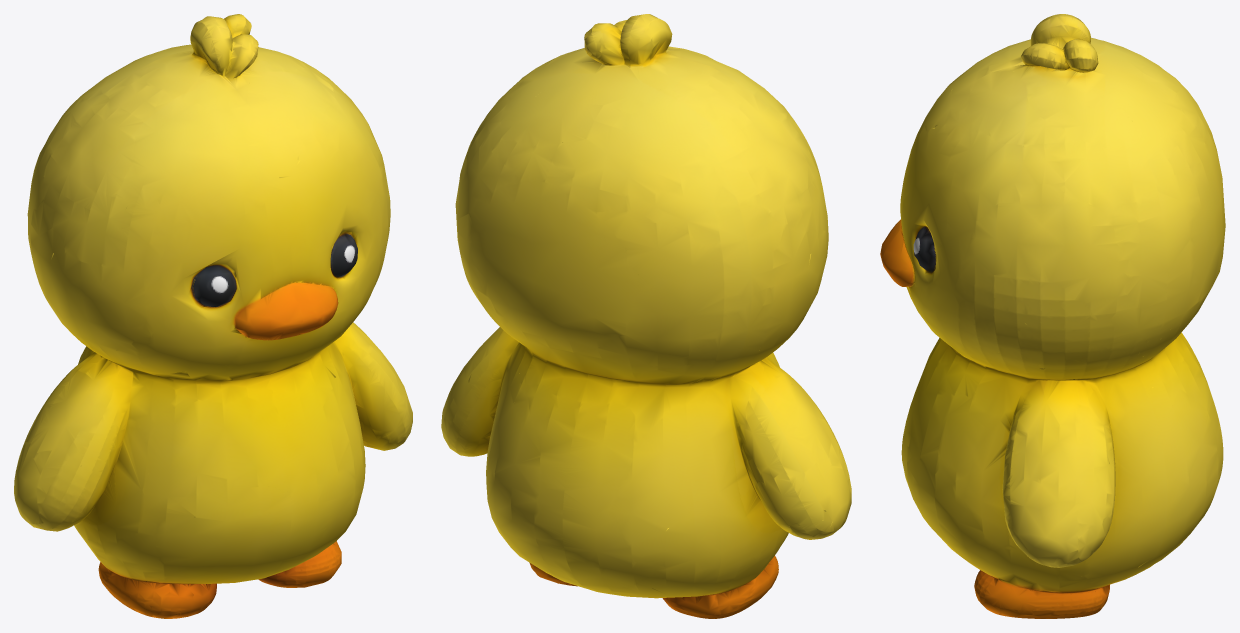
The model's file is pet_duck.glb.
3 renders of one model, left to right at view 1: azimuth 30°, elevation 25°; view 2: azimuth 150°, elevation 25°; view 3: azimuth 270°, elevation 25°, orthographic. The views are drawn at different scales.
Visible parts, largest first — view 1: node_0; view 2: node_0; view 3: node_0.
Part boxes in pixels (x1,y1,x2,y2): node_0: (14, 14, 412, 618); node_0: (441, 14, 851, 618); node_0: (880, 14, 1225, 618).
Bounding box in the file's own units: 0.8162 × 1.12 × 0.6306.
Materials: 1 (1 with a texture image).
